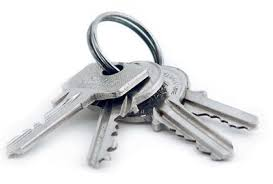kicharina: (5, 52, 148, 164)
